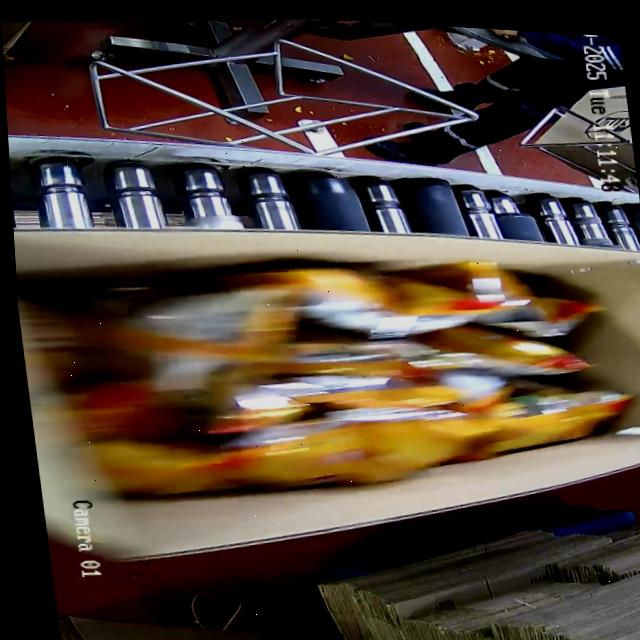FRENCH_CHEESE: (13, 219, 621, 528)
